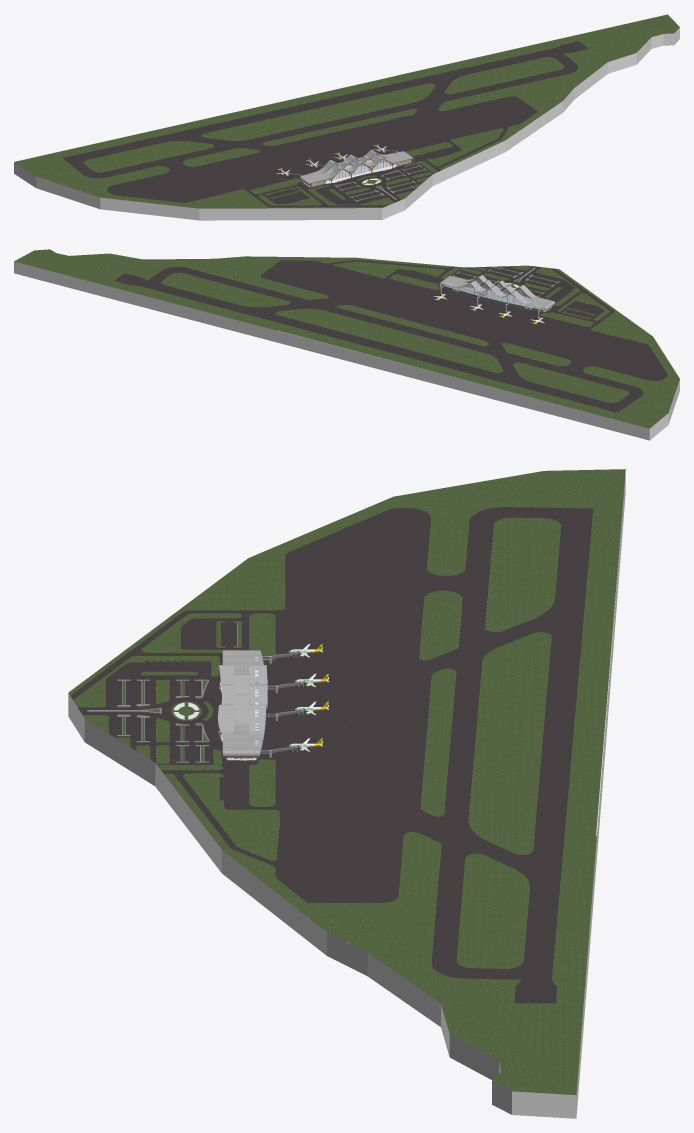
The model's file is Domestic Airport.glb.
3 views of the same model, one above another, from view 1: azimuth 30°, elevation 25°; view 2: azimuth 150°, elevation 25°; view 3: azimuth 270°, elevation 25° (orthographic). The views are drawn at different scales.
Parts seen in each view (by area): view 1: EJ Garcia; view 2: EJ Garcia; view 3: EJ Garcia.
Boxes of the visible parts, box(x1,y1,x2,y2) form: EJ Garcia: box(14, 14, 679, 220); EJ Garcia: box(14, 249, 679, 440); EJ Garcia: box(68, 469, 625, 1118).
Size of the model in its own units: 1608 by 58.62 by 605.
Materials: 81 (36 with a texture image).
